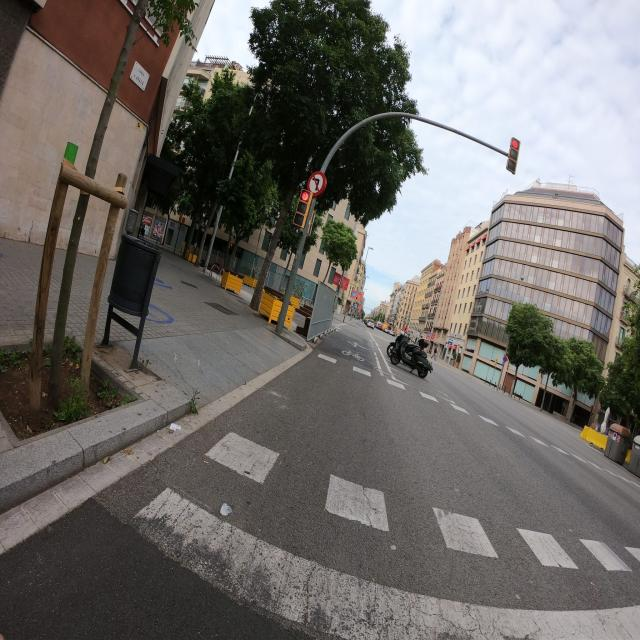car: (387, 331, 433, 378), (604, 430, 633, 464), (205, 250, 238, 273), (382, 320, 393, 333), (366, 317, 376, 328)
